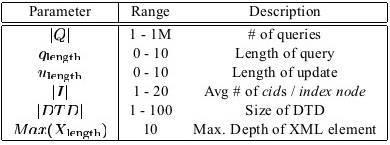column: (193, 3, 377, 145), (14, 3, 107, 145), (131, 3, 173, 145)
row: (1, 103, 390, 119), (1, 123, 390, 139), (1, 27, 390, 42), (1, 48, 390, 63), (1, 85, 390, 99), (1, 67, 389, 80), (2, 6, 389, 19)
